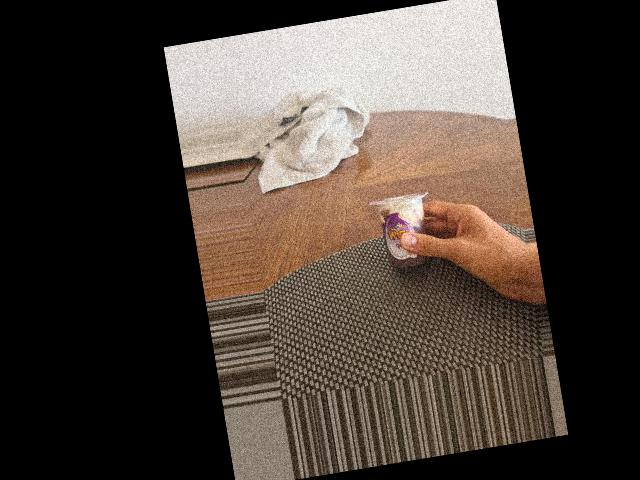milky: (369, 191, 441, 274)
